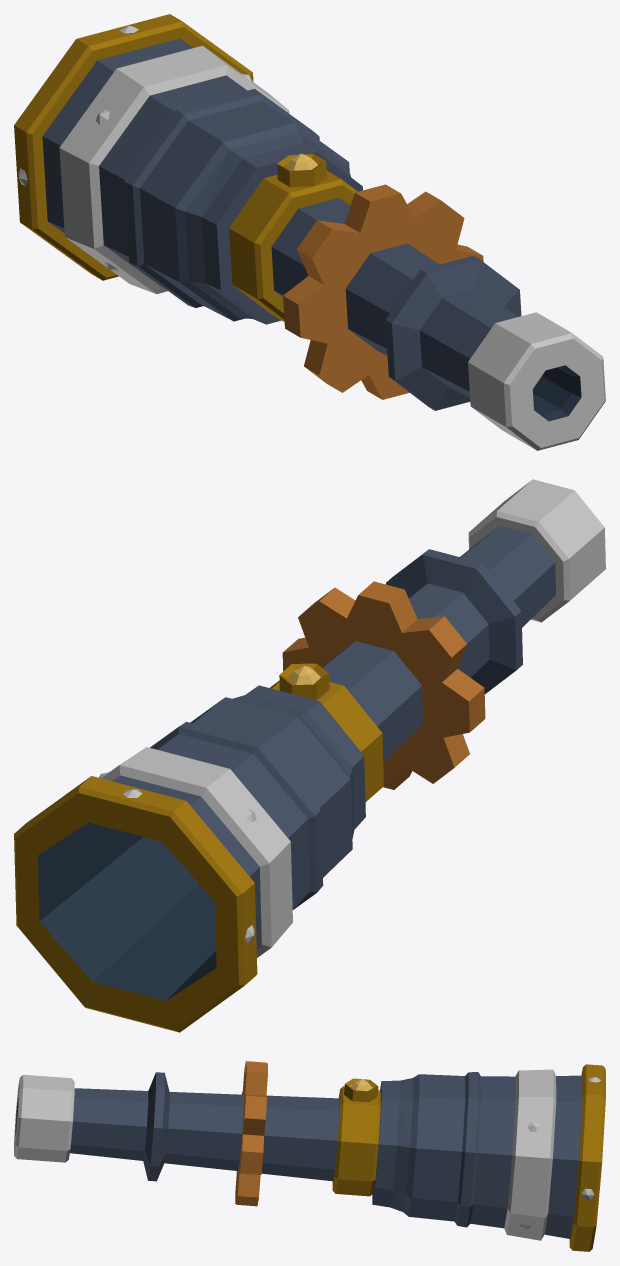
The model's file is mechanical-finger-extender-rod-124d5d.glb.
3 renders of one model, top to bottom at view 1: azimuth 30°, elevation 25°; view 2: azimuth 150°, elevation 25°; view 3: azimuth 270°, elevation 25°, orthographic. The views are drawn at different scales.
Visible parts, largest first — view 1: extender-rod; view 2: extender-rod; view 3: extender-rod.
Part boxes in pixels (<box>): extender-rod: <box>14,14,605,450</box>; extender-rod: <box>14,479,605,1032</box>; extender-rod: <box>14,1061,605,1251</box>.
Bounding box in the file's own units: 0.0208 × 0.0214 × 0.0669.
